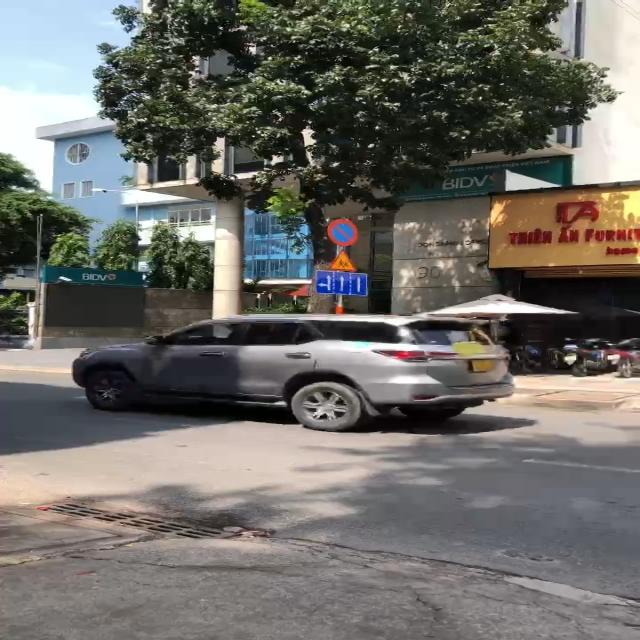Bien bao tre em: (328, 248, 359, 273)
